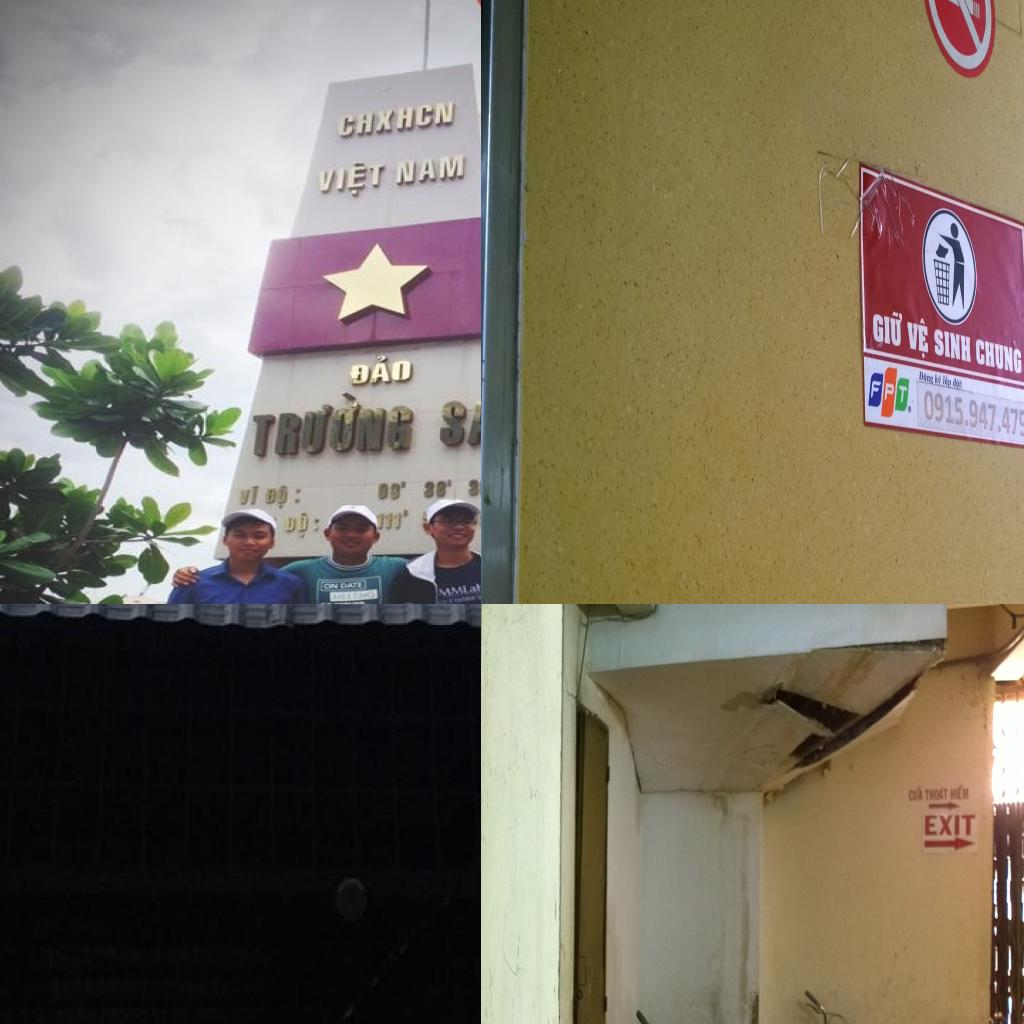text: (248, 389, 415, 457), (923, 390, 1024, 438), (336, 101, 457, 139), (318, 157, 389, 199), (348, 354, 413, 388), (395, 154, 464, 184), (440, 398, 481, 448), (976, 339, 1022, 375), (934, 327, 971, 363), (873, 307, 903, 347), (907, 316, 928, 360), (374, 509, 410, 532), (285, 512, 311, 540), (436, 583, 481, 599), (262, 484, 290, 509), (376, 479, 408, 500), (423, 478, 454, 499), (237, 485, 262, 505), (924, 784, 949, 804), (949, 782, 970, 805), (906, 783, 924, 805), (467, 476, 481, 497), (870, 380, 882, 400), (292, 488, 304, 505), (919, 372, 933, 386), (884, 383, 894, 402), (899, 385, 909, 404), (339, 582, 365, 589), (942, 374, 952, 388), (312, 518, 321, 533), (952, 378, 963, 390), (322, 583, 339, 590), (934, 374, 942, 386)
